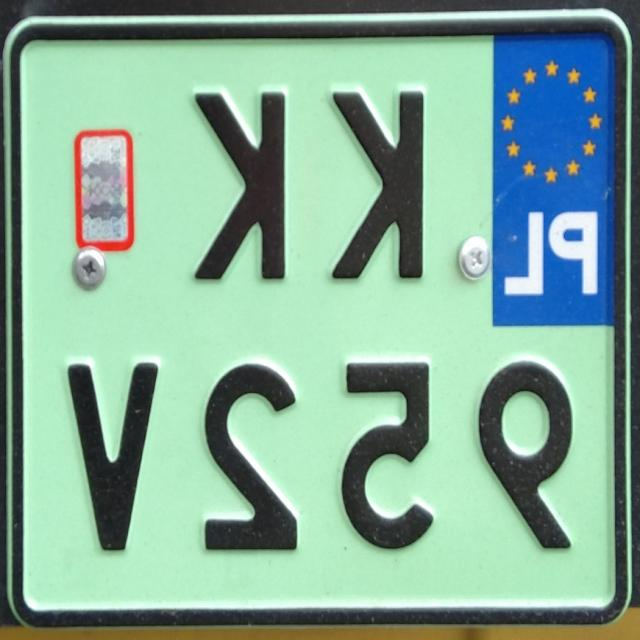pl_license_plate: (26, 33, 615, 611)
